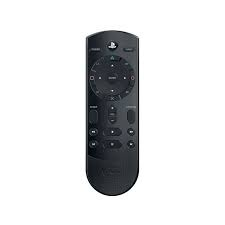remote control: (85, 32, 139, 199)
